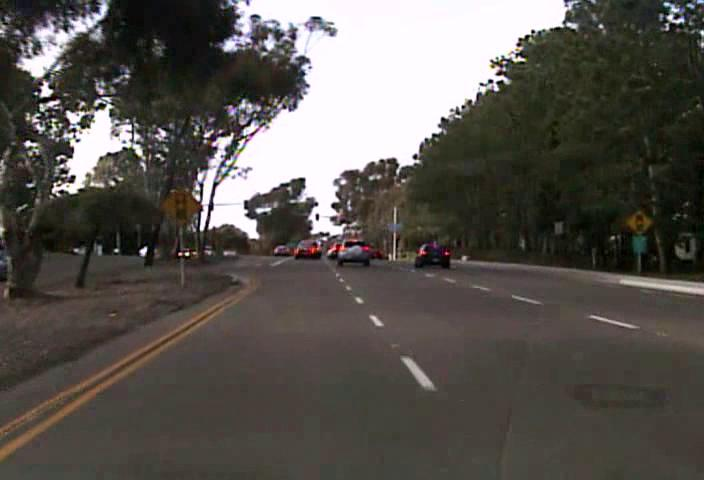signalAhead: (625, 208, 652, 237)
